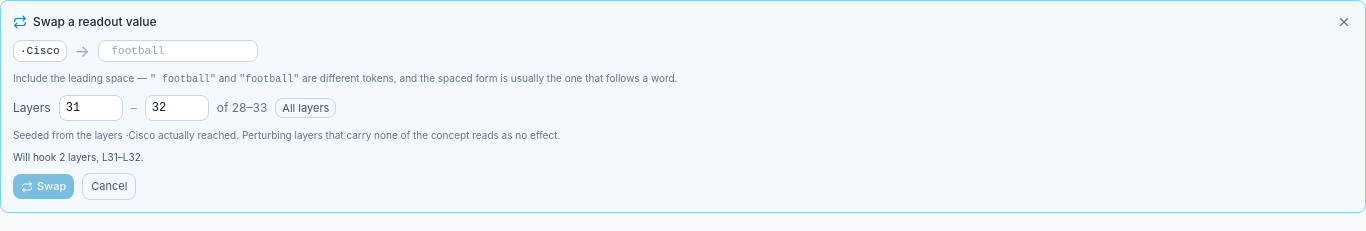
Test: SwapComposer › warns once the reader WIDENS past the budget
Step 1. Replace the text in the 1st number field with "28" → (91, 108), box 59,95 -> 123,121
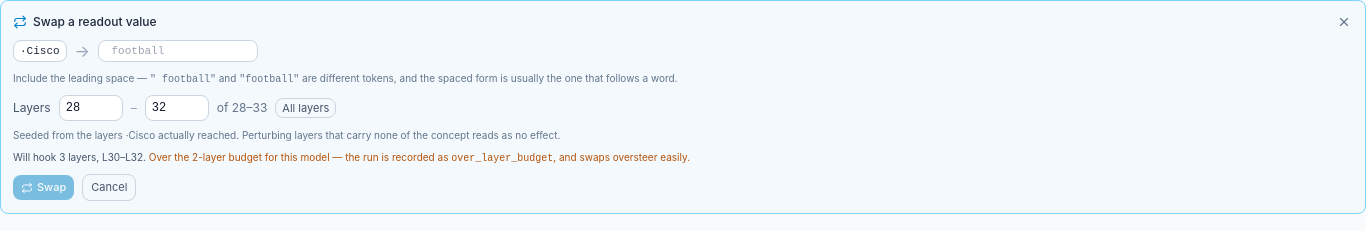
Now the element with test id "swap-layer-summary" shows "Over the 2-layer budget", box 13,151 -> 690,164
